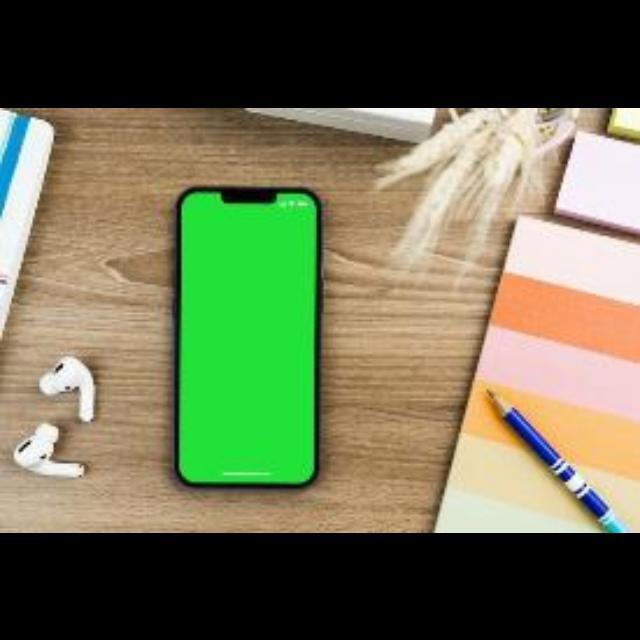Phone: (172, 184, 322, 491)
